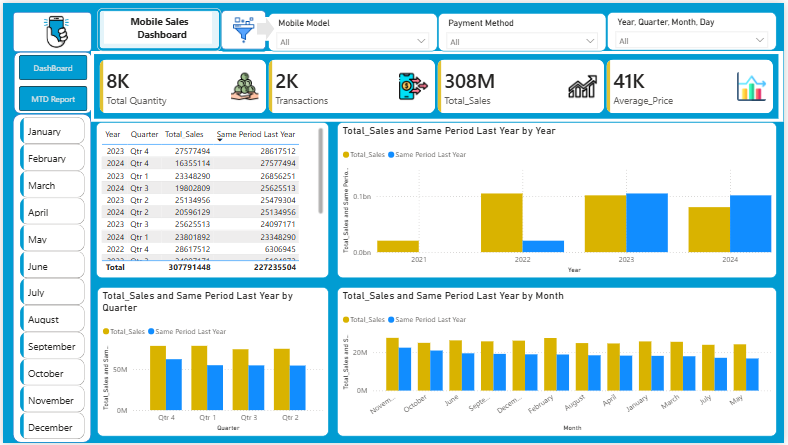

What the dashboard file says about the page in this screenshot:
{"tool":"powerbi","page":{"name":"DashBoard","canvas":[1280,720],"ordinal":0},"visuals":[{"type":"shape","box":[16.9,14.8,128.8,65.5],"z":0},{"type":"shape","box":[18.3,81.5,128,99.7],"z":1000},{"type":"image","box":[30.2,13,116.6,67.7],"z":2000},{"type":"shape","box":[15.8,181.4,128.2,538.6],"z":3000},{"type":"advancedSlicerVisual","fields":{"Values":["Custom_Calendar.Date.Variation.Date Hierarchy.Month"]},"box":[23.3,181.2,129.7,538.6],"z":4000},{"type":"cardVisual","fields":{"Data":["Sales_Data.Total Quantity","Sales_Data.Transactions","Sales_Data.Total_Sales","Sales_Data.Average_Price"]},"box":[144.6,78.1,1135.4,116.4],"z":5000},{"type":"slicer","fields":{"Values":["Sales_Data.Mobile Model"]},"box":[434.9,15.8,277.9,63.4],"z":6000},{"type":"slicer","fields":{"Values":["Sales_Data.Payment Method"]},"box":[712.8,15.8,276.5,63.4],"z":7000},{"type":"slicer","fields":{"Values":["Sales_Data.Brand"]},"box":[990.7,14.4,273.6,63.4],"z":8000},{"type":"shape","box":[354.2,8.6,80.6,72],"z":9000},{"type":"image","box":[358.6,23,70.6,43.2],"z":10000},{"type":"shape","box":[416.2,23,28.8,38.9],"z":11000},{"type":"shape","box":[154.1,8.6,204.5,70.6],"z":12000},{"type":"textbox","box":[165.6,14.4,177.1,51.8],"z":13000},{"type":"map","fields":{"Category":["Sales_Data.Mobile Model"],"Size":["Sales_Data.Total_Sales"]},"box":[158.4,188.6,275,334.1],"z":14000},{"type":"lineChart","fields":{"Category":["Custom_Calendar.Date.Variation.Date Hierarchy.Month"],"Y":["Sales_Data.Total Quantity"]},"box":[439.3,191.8,827.9,152.5],"z":15000},{"type":"funnel","title":"Ratings By Rating Status","fields":{"Y":["CountNonNull(Sales_Data.Customer Age)"],"Category":["Sales_Data.Rating Status"]},"box":[440.6,360,416.2,162.7],"z":16000},{"type":"pieChart","fields":{"Category":["Sales_Data.Payment Method"],"Y":["Sales_Data.Transactions"]},"box":[862.6,361.4,406.1,164.2],"z":17000},{"type":"clusteredBarChart","fields":{"Y":["Sales_Data.Total_Sales"],"Category":["Sales_Data.Mobile Model"]},"box":[438.9,530.3,418.9,181.2],"z":18000},{"type":"areaChart","fields":{"Y":["Sales_Data.Total_Sales"],"Category":["Custom_Calendar.Day Name"]},"box":[862.8,530.3,407.3,181.2],"z":19000},{"type":"tableEx","fields":{"Values":["Sales_Data.Brand","Sales_Data.Total_Sales","Sales_Data.Transactions"]},"box":[157.4,529.5,275.4,182],"z":20000},{"type":"pageNavigator","box":[25.9,85,112.3,92.2],"z":20001}]}

Visuals, with their boxes in screenshot pixels (x1, y1, x2, y2), scaled from the page's 1280x720 canvas onto the 788x445 screenshot:
shape: [10,9,90,50]
shape: [11,50,90,112]
image: [19,8,90,50]
shape: [10,112,89,444]
advancedSlicerVisual - Custom_Calendar.Date.Variation.Date Hierarchy.Month: [14,112,94,444]
cardVisual - Sales_Data.Total Quantity x Sales_Data.Transactions: [89,48,787,120]
slicer - Sales_Data.Mobile Model: [268,10,439,49]
slicer - Sales_Data.Payment Method: [439,10,609,49]
slicer - Sales_Data.Brand: [610,9,778,48]
shape: [218,5,268,50]
image: [221,14,264,41]
shape: [256,14,274,38]
shape: [95,5,221,49]
textbox: [102,9,211,41]
map - Sales_Data.Mobile Model x Sales_Data.Total_Sales: [98,117,267,323]
lineChart - Custom_Calendar.Date.Variation.Date Hierarchy.Month x Sales_Data.Total Quantity: [270,119,780,213]
"Ratings By Rating Status" funnel: [271,222,527,323]
pieChart - Sales_Data.Payment Method x Sales_Data.Transactions: [531,223,781,325]
clusteredBarChart - Sales_Data.Total_Sales x Sales_Data.Mobile Model: [270,328,528,440]
areaChart - Sales_Data.Total_Sales x Custom_Calendar.Day Name: [531,328,782,440]
tableEx - Sales_Data.Brand x Sales_Data.Total_Sales: [97,327,266,440]
pageNavigator: [16,53,85,110]
